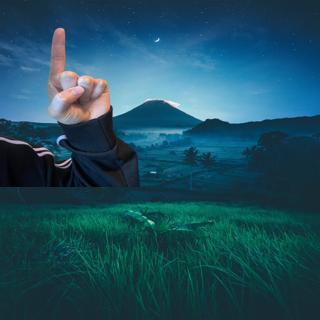IRRITATED: (43, 24, 115, 129)
